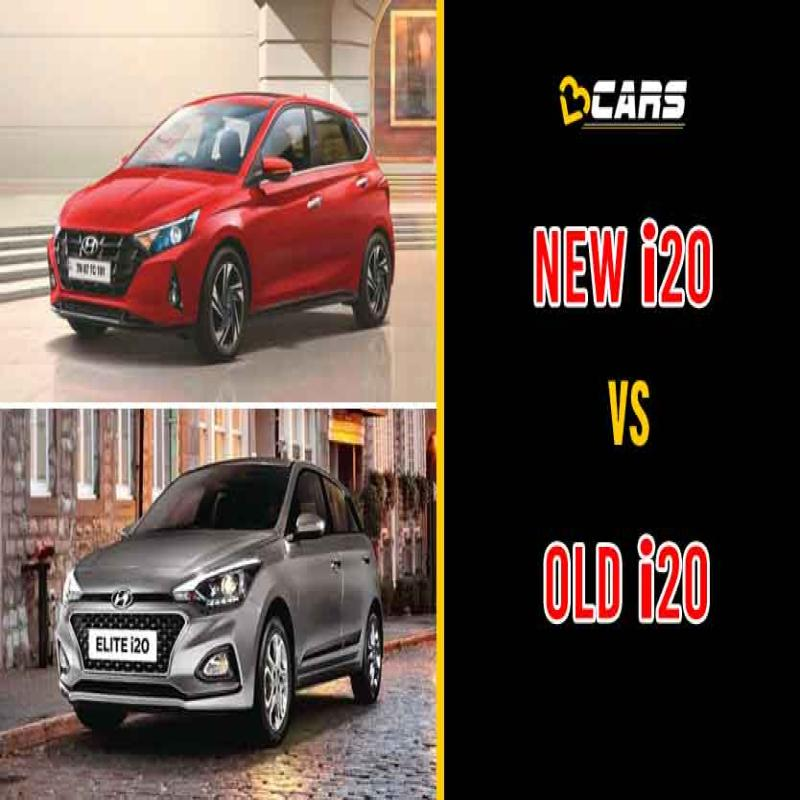car: (35, 431, 379, 732), (45, 48, 388, 334)
